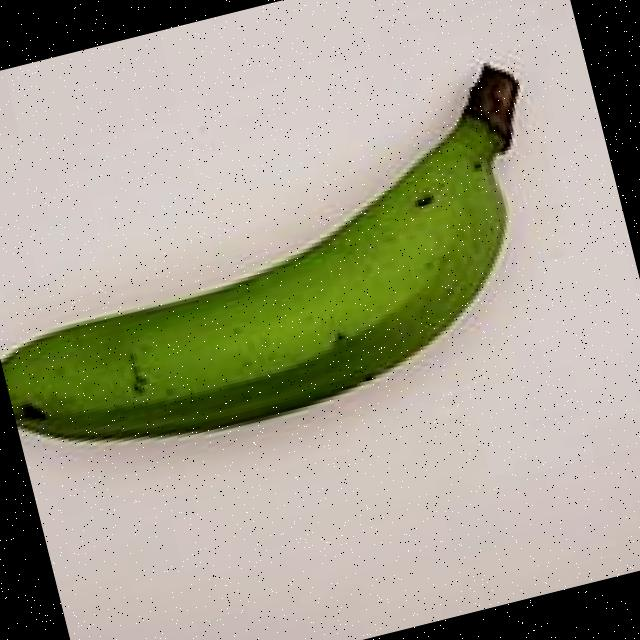Raw: (0, 31, 623, 498)
